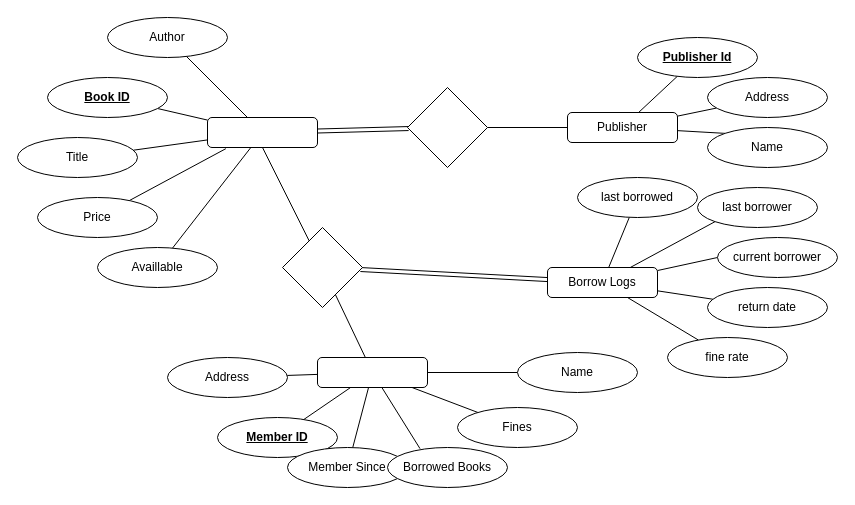
This 855x505 diagram has some shape labels left out. Each missing label, with the centre of its shape:
"Books" goes at point (262, 132).
"borrows" goes at point (322, 267).
"published by" goes at point (447, 127).
"Student" goes at point (372, 372).
